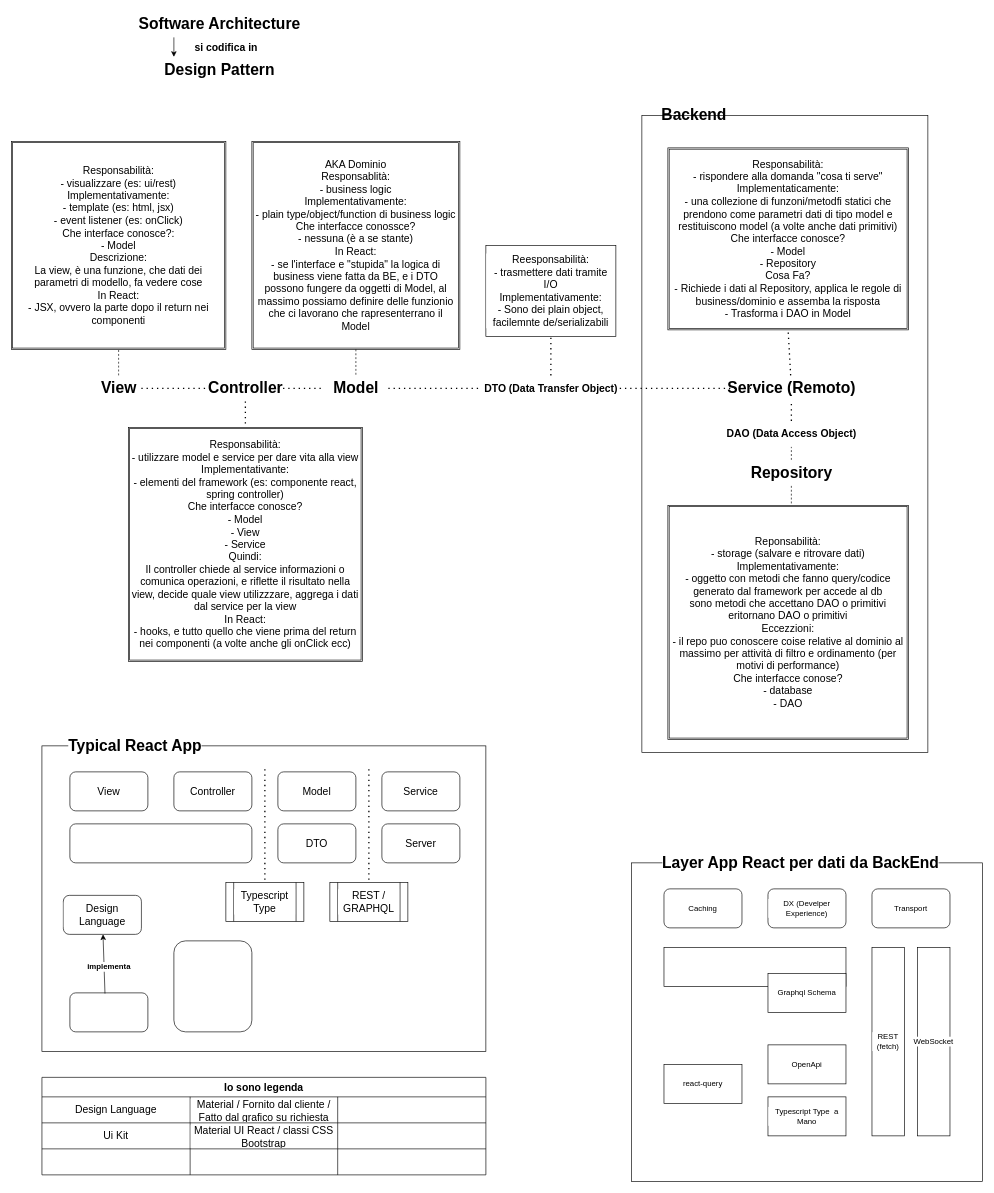
This 994x1193 diagram has some shape labels left out. The shapes that lost their labels are listed below. From the top down, each one's centre as x and y in pixels, then its label:
(160,843): React
(212,986): React Hook, Custom Hook, Library Hook
(754,966): Apollo GraphQL
(108,1012): Ui kit / Manual CSS
